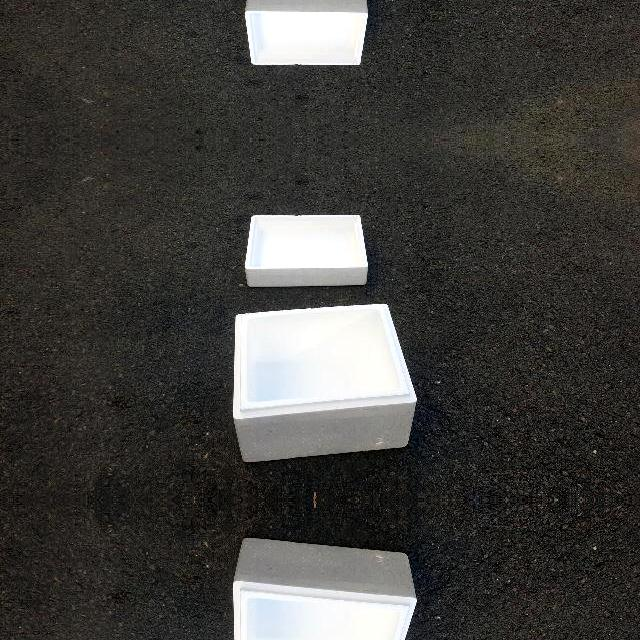Styrofoam: (233, 304, 417, 466), (233, 304, 417, 462), (233, 534, 417, 640), (233, 538, 417, 640), (244, 215, 368, 288), (245, 214, 368, 286), (245, 0, 368, 66), (244, 0, 368, 65)
